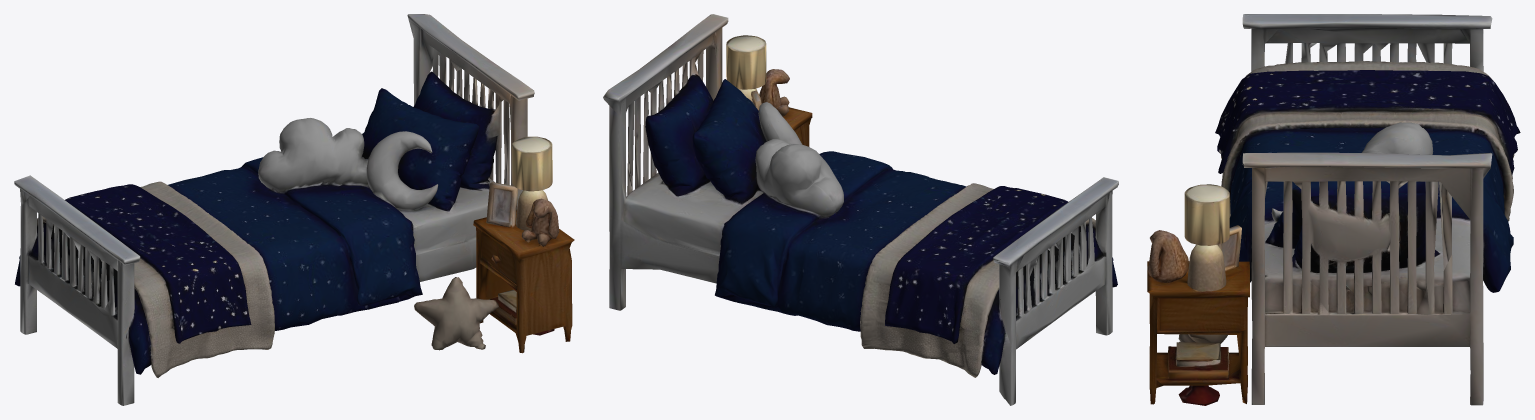
File: scene_starlit_bed.glb
The picture shows the model from 3 angles, left to right: view 1: azimuth 30°, elevation 25°; view 2: azimuth 150°, elevation 25°; view 3: azimuth 270°, elevation 25°; orthographic projection. The views are drawn at different scales.
Parts seen in each view (by area): view 1: tripo_node_3b4432fc-27b8-4d17-bb19-07bb0bfa83e7; view 2: tripo_node_3b4432fc-27b8-4d17-bb19-07bb0bfa83e7; view 3: tripo_node_3b4432fc-27b8-4d17-bb19-07bb0bfa83e7.
Part boxes in pixels (x1,y1,x2,y2): tripo_node_3b4432fc-27b8-4d17-bb19-07bb0bfa83e7: (14, 14, 574, 405); tripo_node_3b4432fc-27b8-4d17-bb19-07bb0bfa83e7: (603, 14, 1118, 405); tripo_node_3b4432fc-27b8-4d17-bb19-07bb0bfa83e7: (1147, 14, 1520, 405).
Bounding box in the file's own units: 0.9814 × 0.498 × 0.6861.
Materials: 1 (1 with a texture image).
